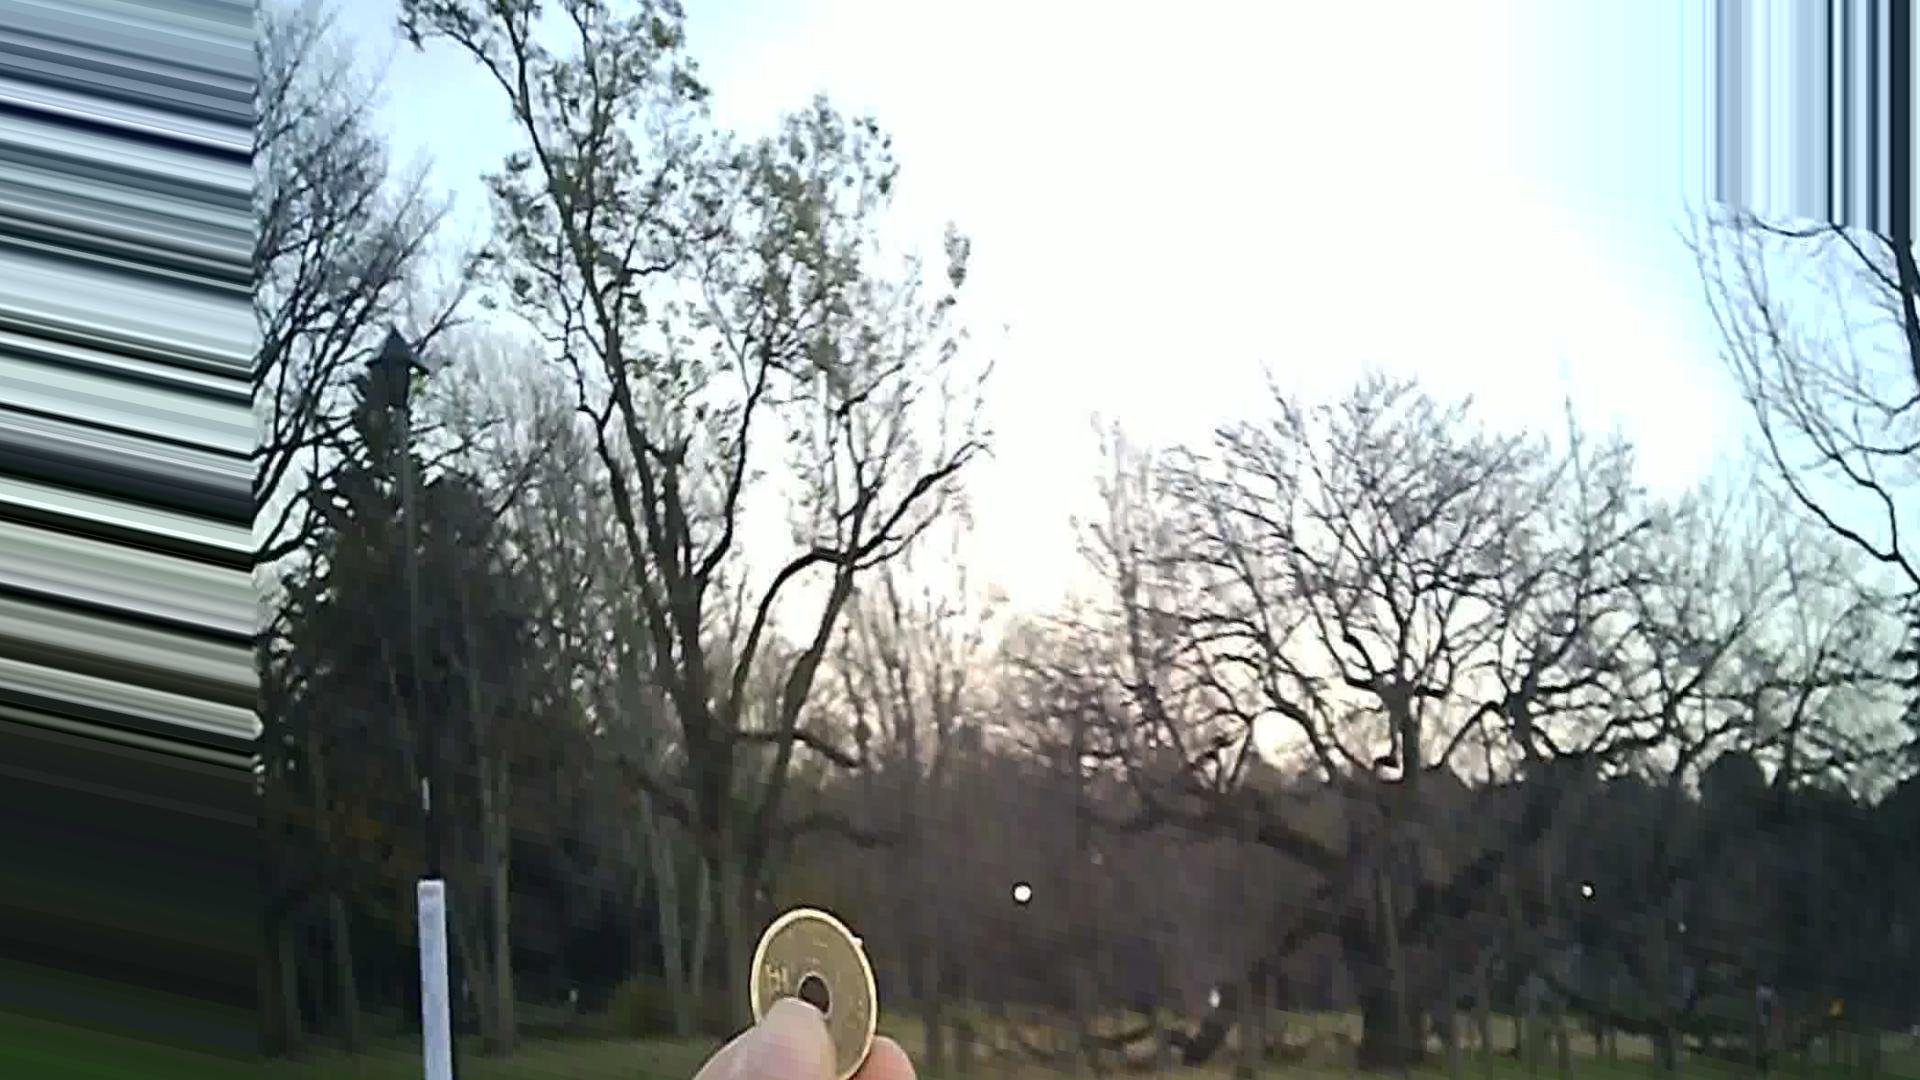5 Yen: (741, 905, 884, 1079)
